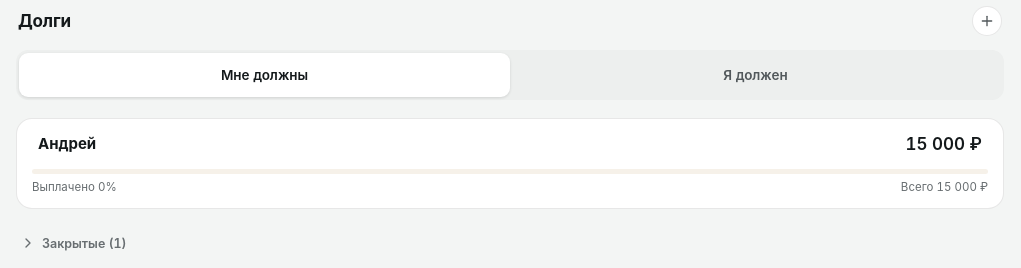
Test: DebtsScreen › switches direction when the other segment is clicked
Click the button with class "segmented__opt" showing "Я должен" at (756, 75), box [510,53,1001,97]
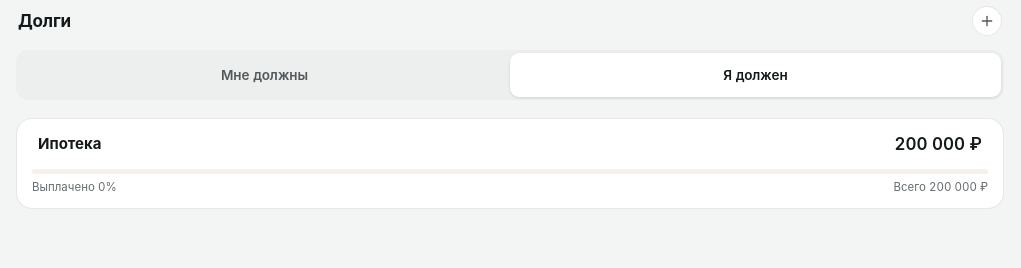
Expected: the elements with class "debt-card__name" read "Ипотека", in this order, [38,134,102,153]
